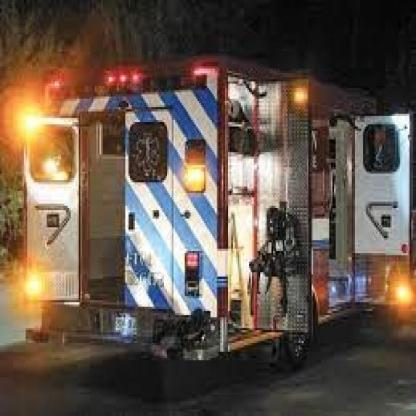priority: (4, 65, 416, 368)
